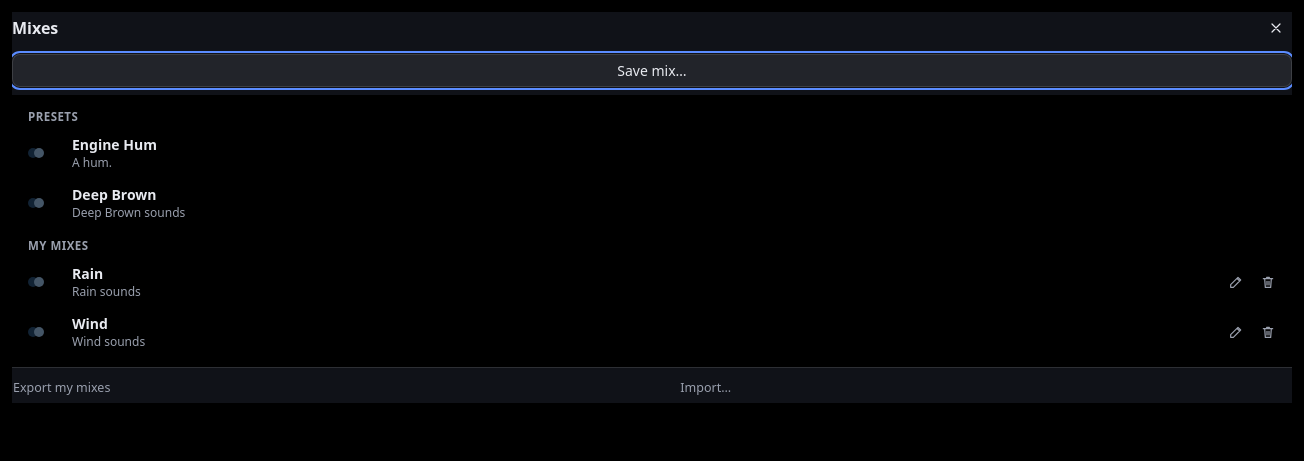
Test case: MixesView saving › Esc in the name field cancels without closing the view
Click the button "Save mix…" at (652, 70), box top-left (12, 54), bottom-right (1292, 87)
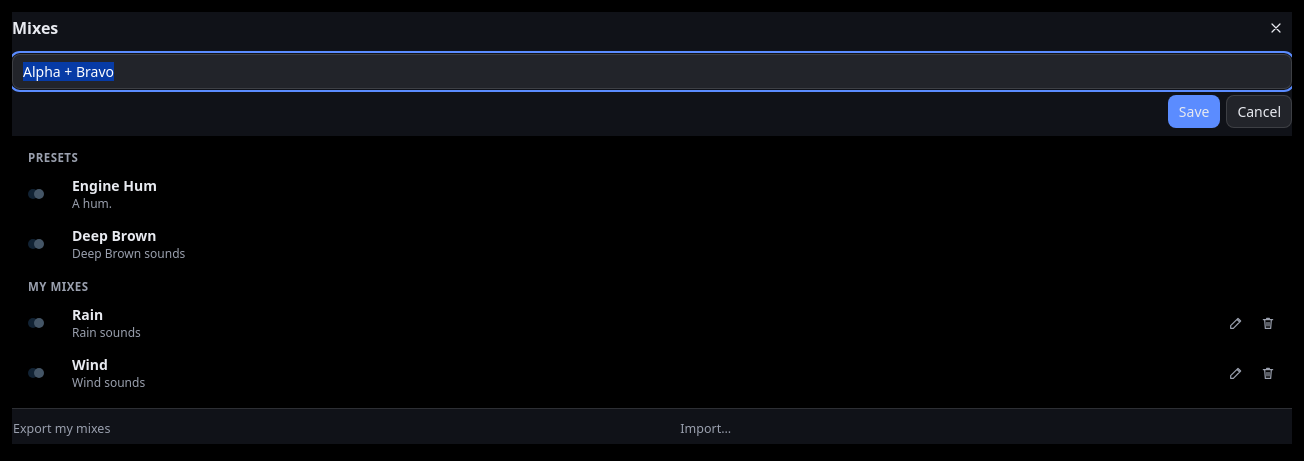
Press Escape in the field named "Mix name", box top-left (12, 54), bottom-right (1292, 89)
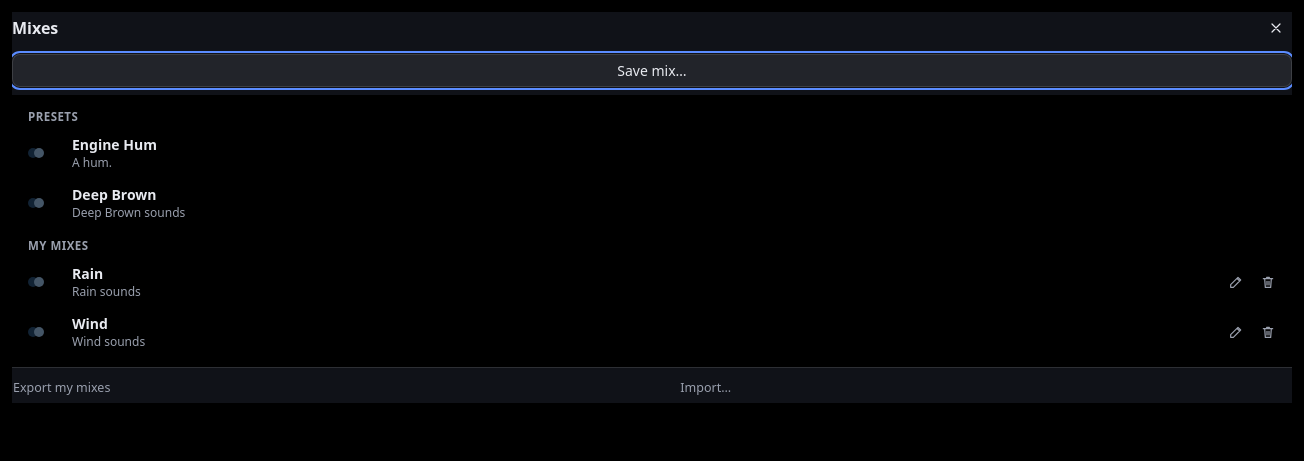
Expected: the field is gone
